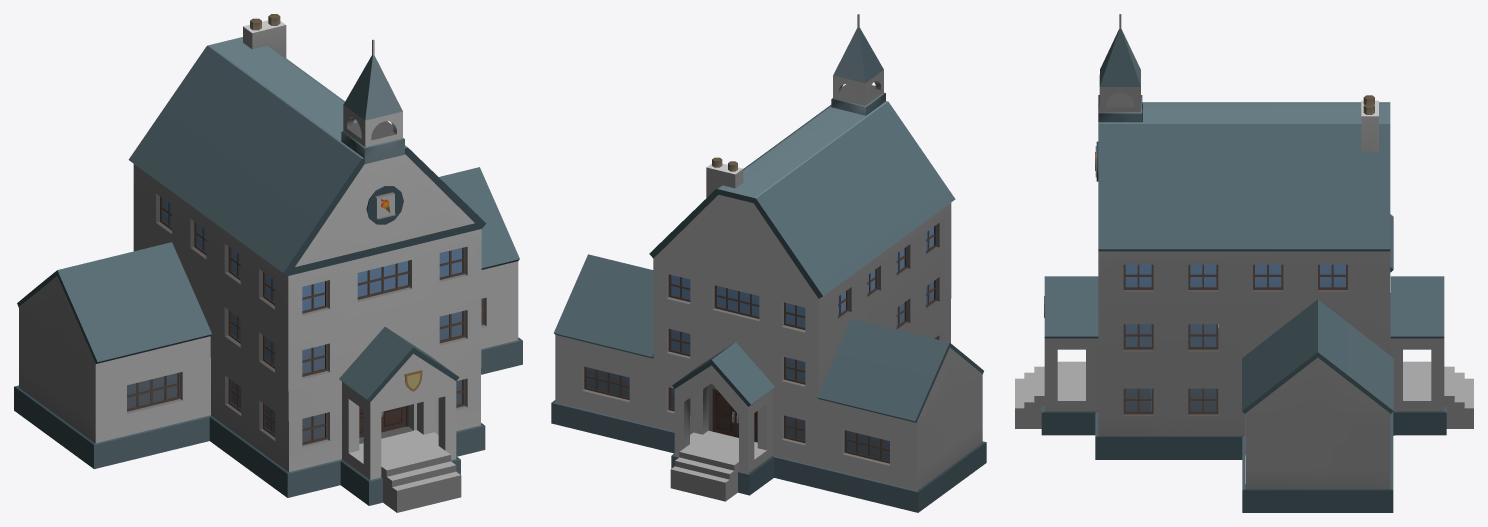
File: buildings-business-school_v1.glb
3 views of the same model, side by side, from view 1: azimuth 30°, elevation 25°; view 2: azimuth 150°, elevation 25°; view 3: azimuth 270°, elevation 25° (orthographic). The views are drawn at different scales.
Parts seen in each view (by area): view 1: School_base, School_windowRefl; view 2: School_base, School_windowRefl; view 3: School_base, School_windowRefl.
Boxes of the visible parts, <box> form: School_base: <box>14,14,522,512</box>; School_windowRefl: <box>127,198,462,442</box>; School_base: <box>551,14,986,512</box>; School_windowRefl: <box>586,227,933,460</box>; School_base: <box>1015,14,1473,512</box>; School_windowRefl: <box>1125,264,1345,411</box>.
Bounding box in the file's own units: 26.16 × 24.74 × 25.72.
